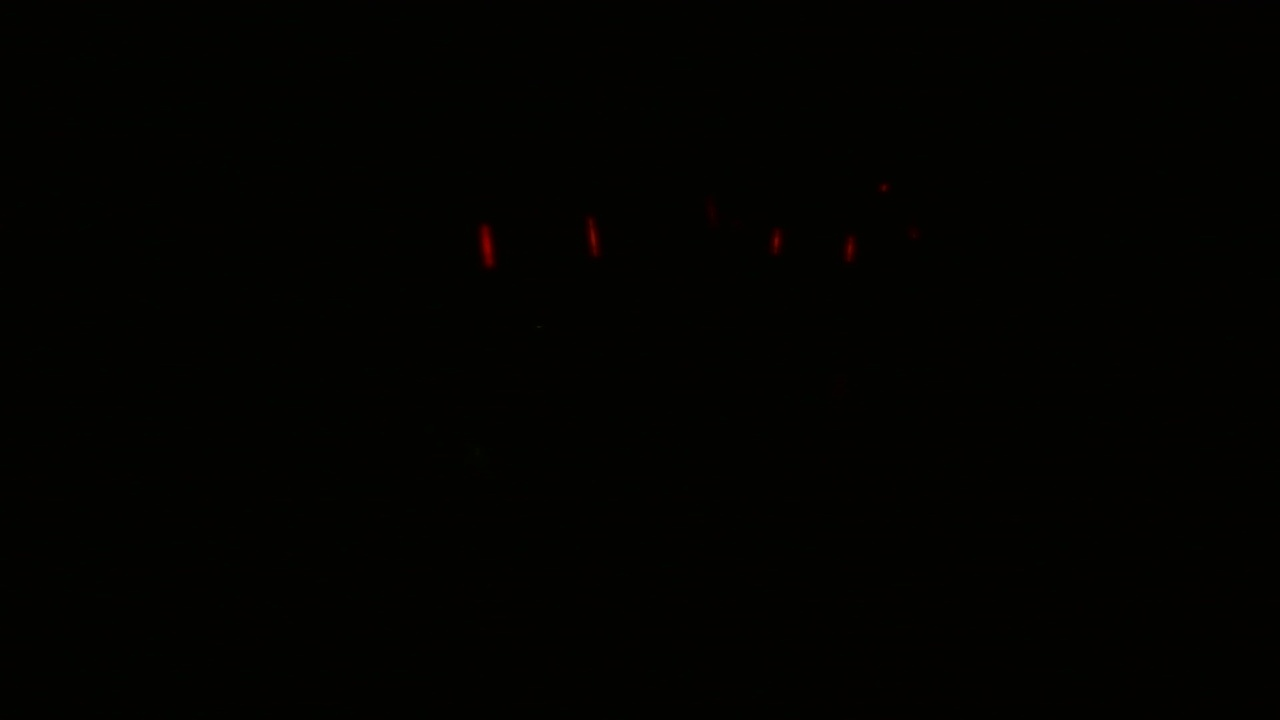pair1: (475, 211, 610, 272)
pair2: (764, 220, 866, 276)
